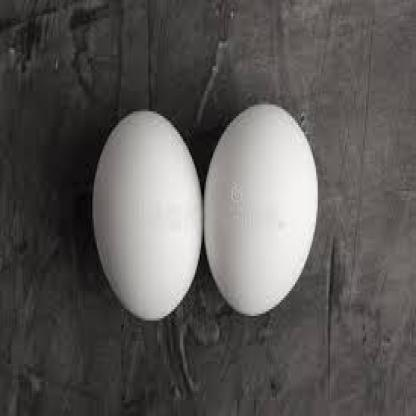egg: (204, 104, 318, 318), (92, 108, 204, 323)
